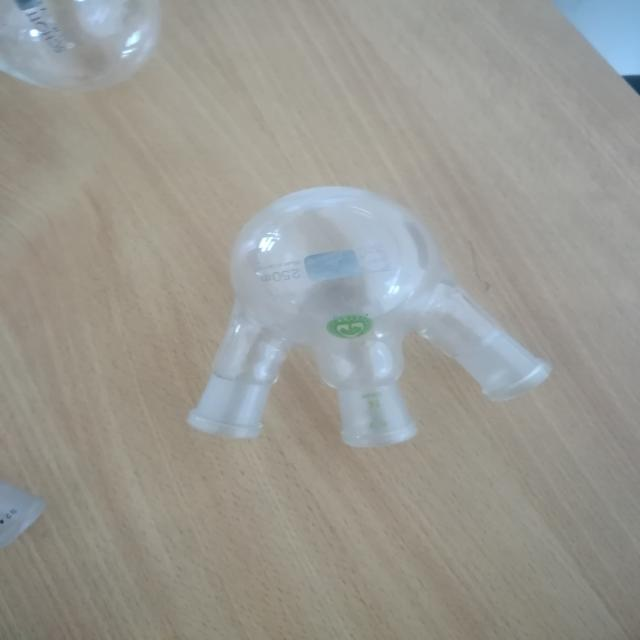Round_Bottom_Flask_Borosilicate_Glass_3_Neck: (123, 155, 607, 511)
